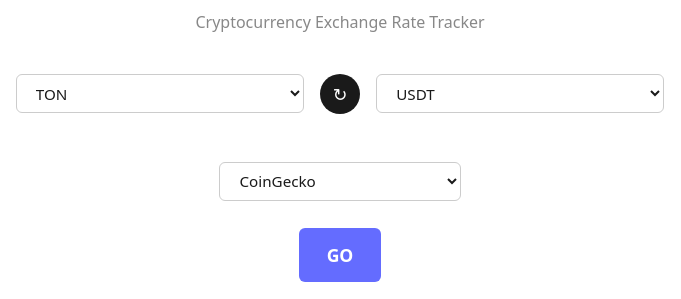
Scenario: App › shows loading state when fetching
Click the button "GO": (340, 255) [299,228,381,282]
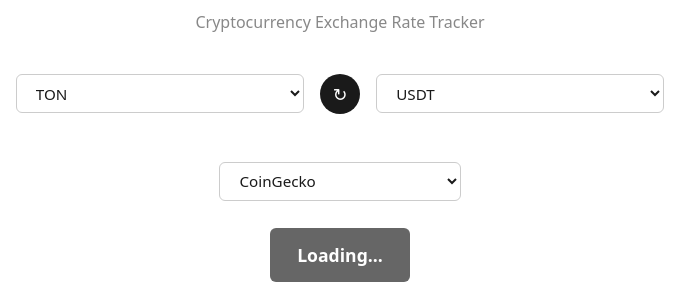
Check: the button "Loading..." is disabled, box [270,228,410,282]
